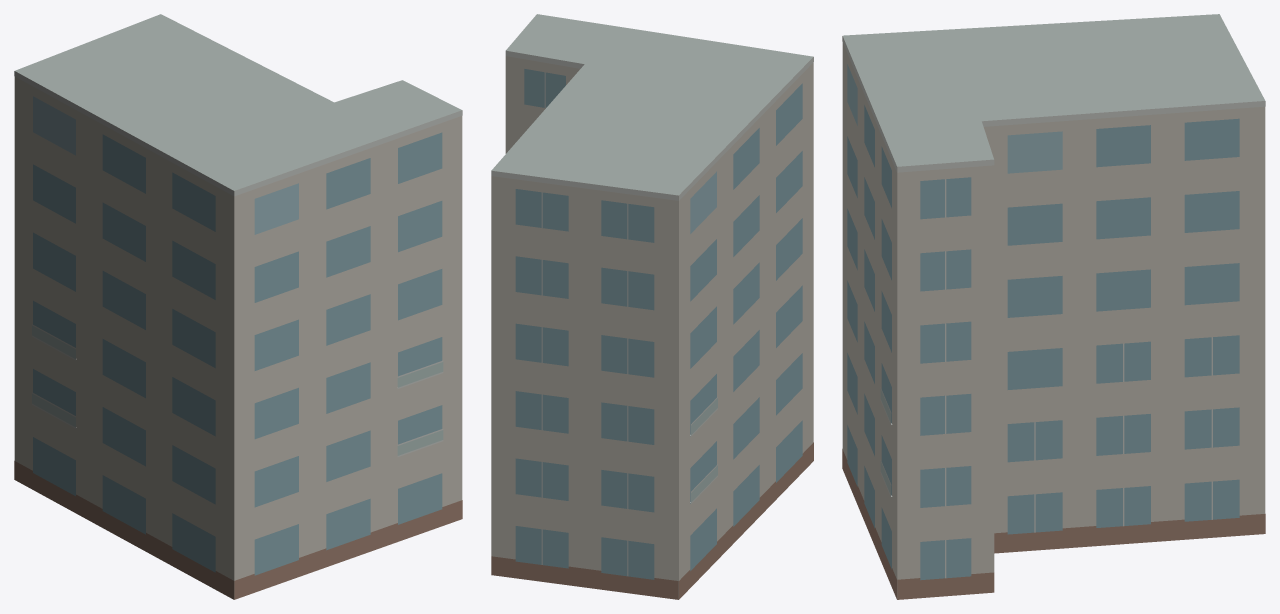
File: survey-upis-32748075.glb
3 renders of one model, left to right at view 1: azimuth 30°, elevation 25°; view 2: azimuth 150°, elevation 25°; view 3: azimuth 270°, elevation 25°, orthographic. The views are drawn at different scales.
Parts seen in each view (by area): view 1: survey-upis-32748075.tmp; view 2: survey-upis-32748075.tmp; view 3: survey-upis-32748075.tmp.
Boxes of the visible parts, x1,y1,x2,y2 form: survey-upis-32748075.tmp: (14,14,462,599); survey-upis-32748075.tmp: (491,14,813,599); survey-upis-32748075.tmp: (842,14,1265,599).
Bounding box in the file's own units: 13.78 × 18.2 × 16.12.
